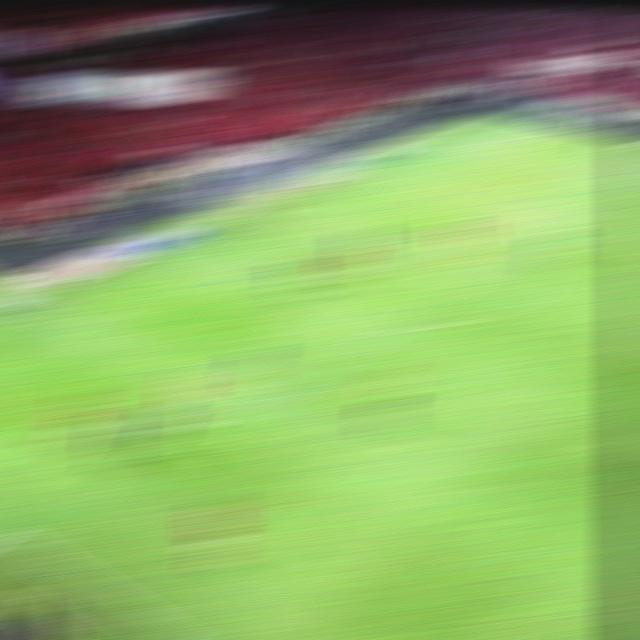bigarea_bottom_inner: (238, 406, 276, 421)
bigarea_bottom_outter: (14, 302, 57, 316)
bigarea_top_inner: (581, 195, 614, 206)
bigarea_top_outter: (398, 147, 436, 158)
bottom_arc_area_intersection: (379, 315, 424, 331)
corner: (476, 114, 513, 119)
smallarea_bottom_inner: (215, 269, 257, 285)
smallarea_bottom_outter: (151, 247, 195, 263)
smallarea_top_inner: (372, 199, 413, 208)
smallarea_top_outter: (319, 178, 360, 195)
top_arc_area_intersection: (495, 244, 539, 261)
